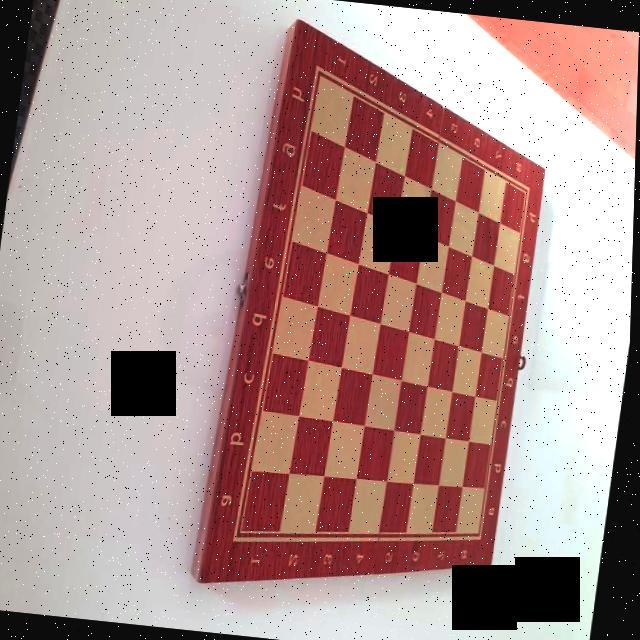chess-table-corners: (230, 520, 252, 550), (308, 59, 330, 86), (518, 176, 536, 204), (472, 522, 490, 547)
